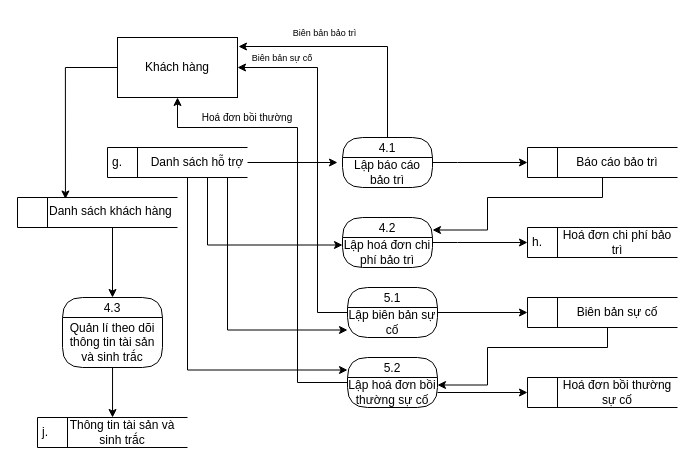
Some shapes in this 695 by 465 pixel diagram are drawn without their labels. Here are the shapes that lost their labels. From the top down, the box of each, then its label:
(526, 146, 678, 178): i.
(16, 196, 178, 228): b.
(526, 296, 678, 328): l.
(526, 376, 678, 408): k.
